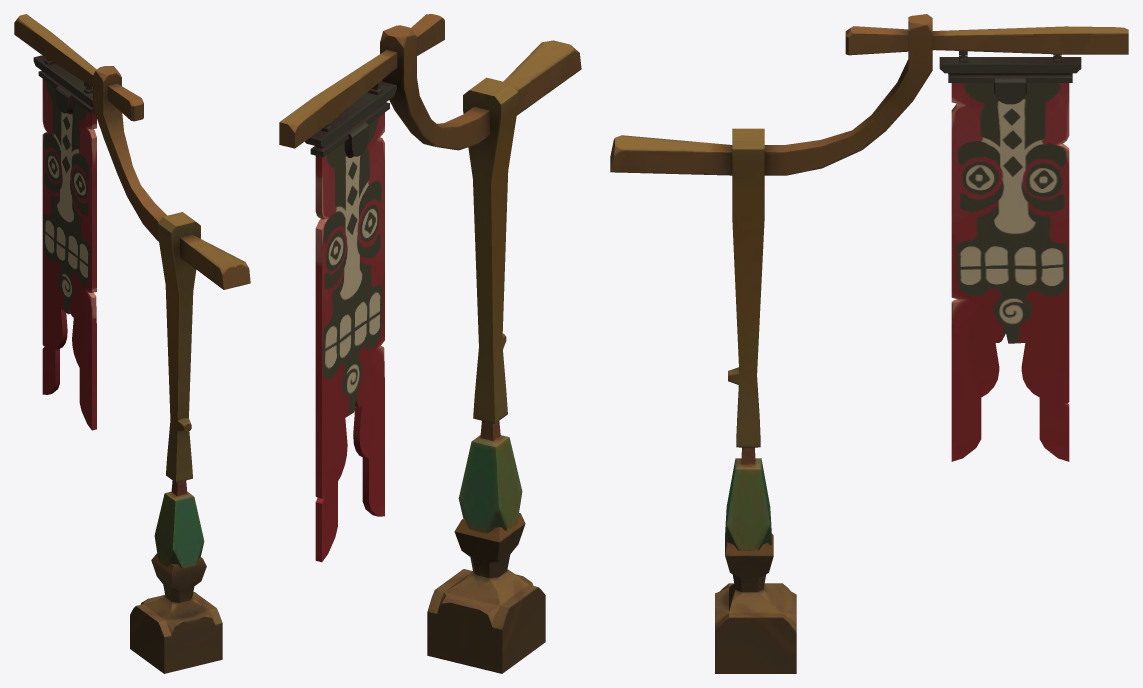
Rendered from OBJ_FLAG_A_01.obj.
3 views of the same model, side by side, from view 1: azimuth 30°, elevation 25°; view 2: azimuth 150°, elevation 25°; view 3: azimuth 270°, elevation 25° (orthographic). The views are drawn at different scales.
Visible parts, largest first — view 1: OBJ_FLAG_A_01; view 2: OBJ_FLAG_A_01; view 3: OBJ_FLAG_A_01.
Part boxes in pixels (x1=…): OBJ_FLAG_A_01: x1=14, y1=14, x2=250, y2=673; OBJ_FLAG_A_01: x1=279, y1=14, x2=581, y2=673; OBJ_FLAG_A_01: x1=610, y1=14, x2=1128, y2=673.
Bounding box in the file's own units: 0.6986 × 6.1 × 4.49.
Materials: 1 (1 with a texture image).
